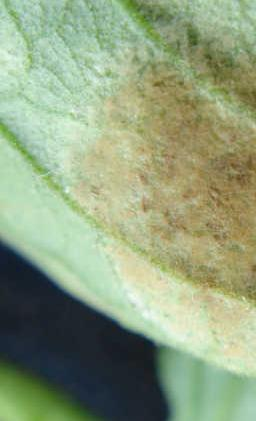Tomato mold leaf: (0, 0, 256, 414)
